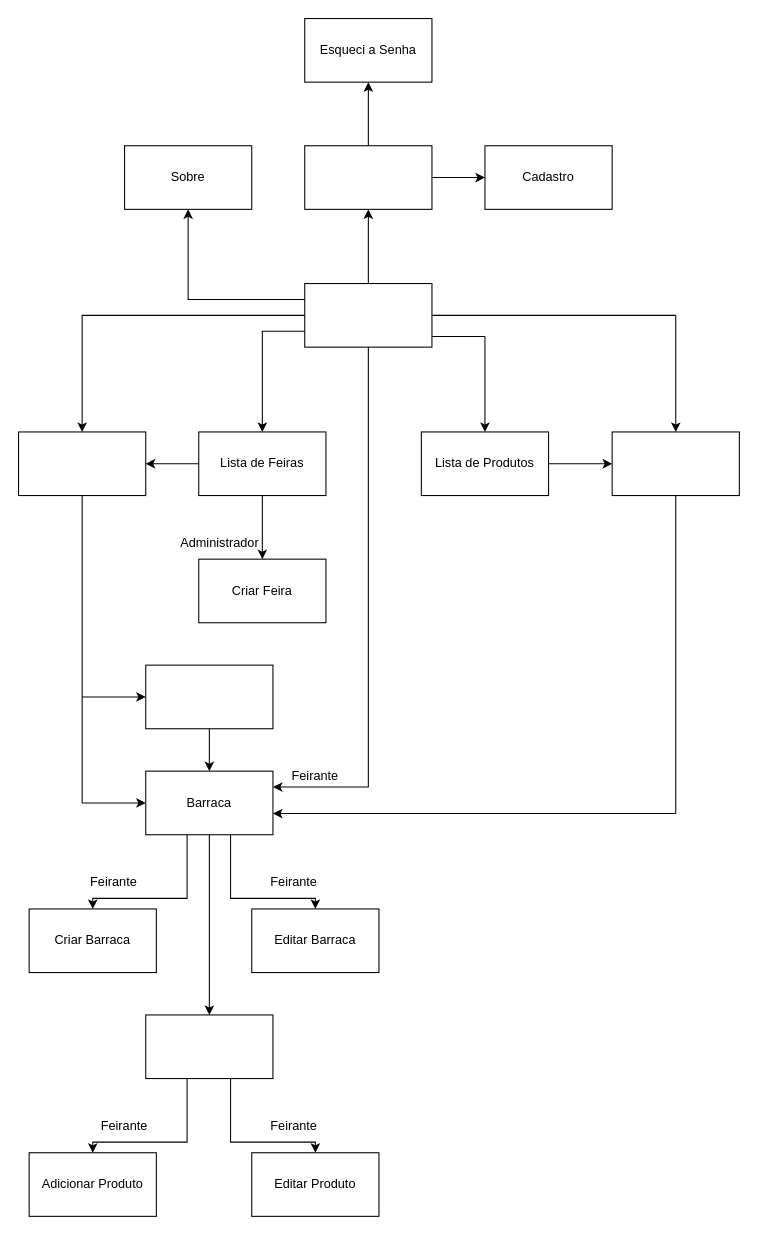
The diagram is 758 pixels wide and 1235 high, and some of its shapes have lost their labels. Each missing label, with the box of its shape:
Feira: (17, 431, 146, 496)
Home: (304, 282, 432, 347)
Lista de Barracas: (145, 664, 273, 729)
Login: (304, 145, 432, 209)
Produto: (145, 1014, 273, 1079)
Produtos: (611, 431, 739, 496)
